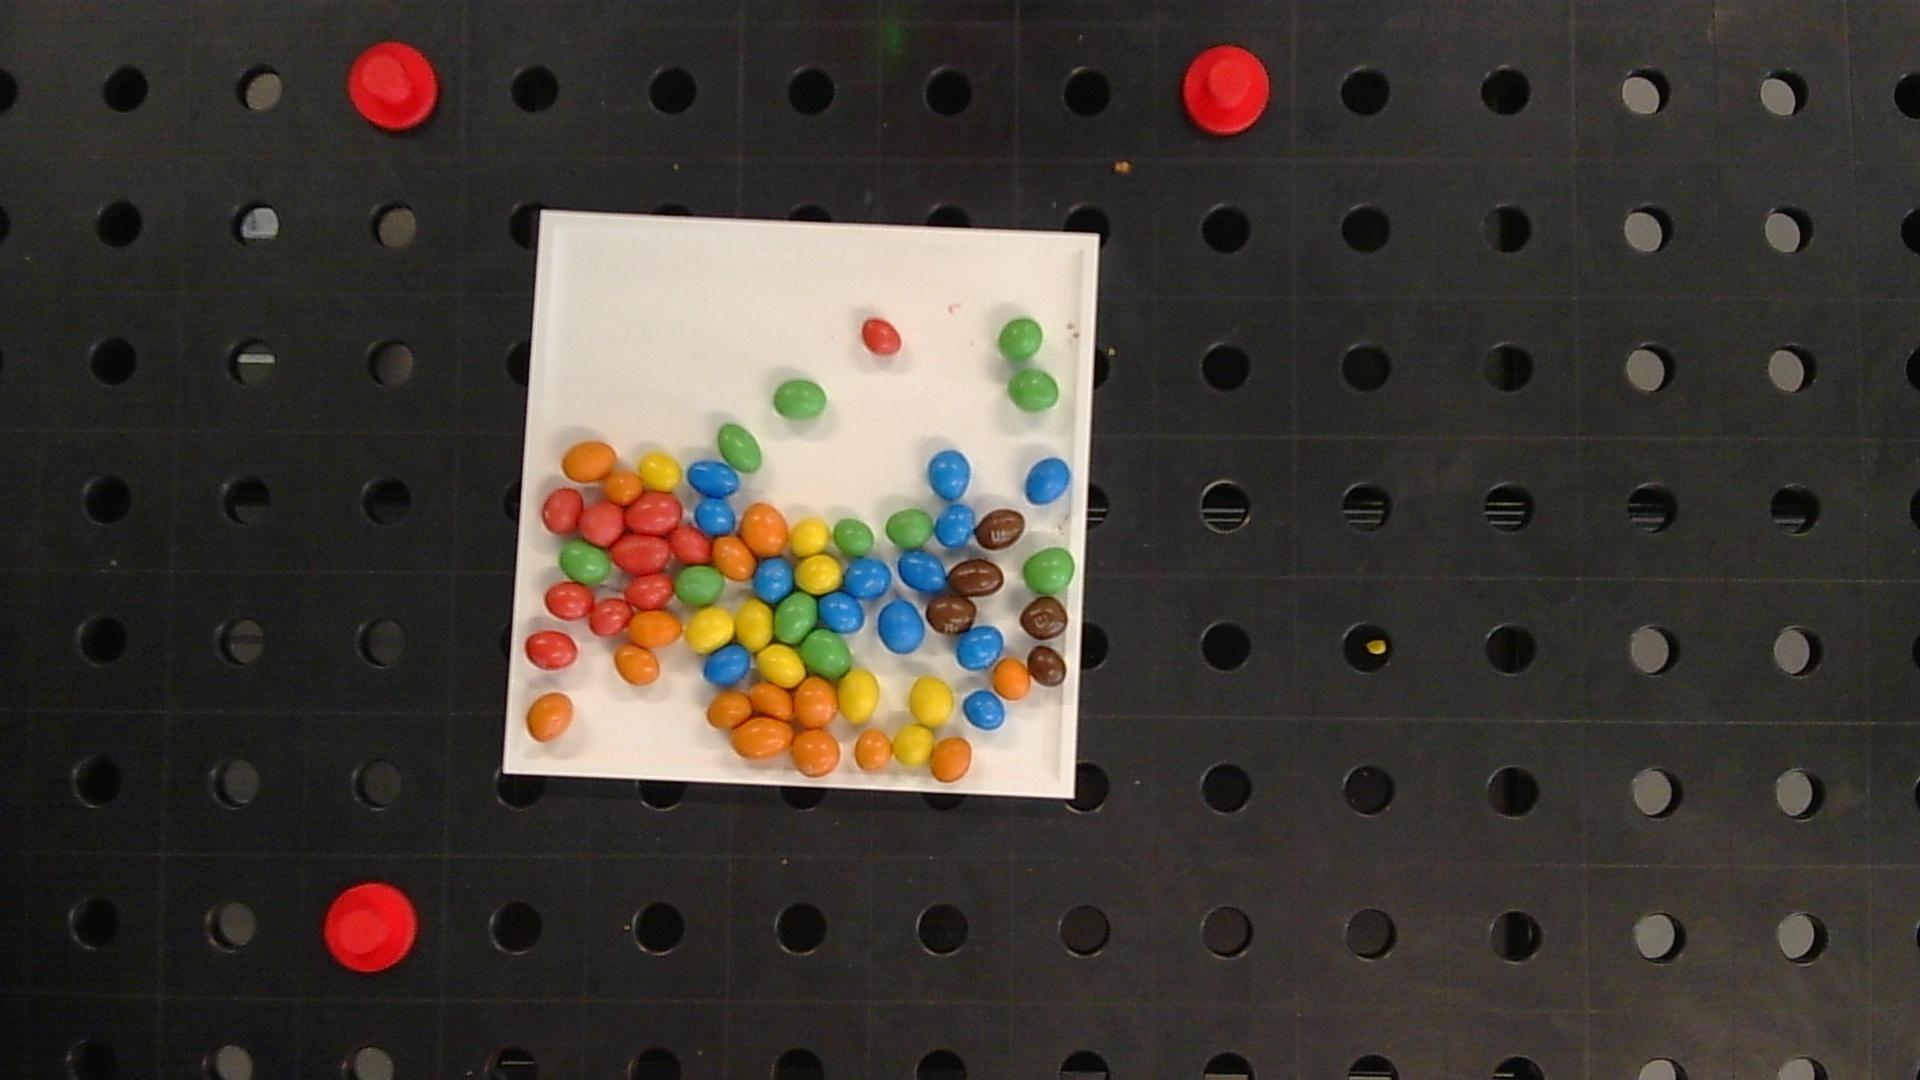blue: (878, 600, 924, 653), (928, 450, 971, 500), (956, 626, 1004, 670), (898, 551, 947, 592), (1026, 458, 1069, 502), (844, 558, 890, 599), (704, 645, 750, 686), (688, 460, 740, 496), (819, 592, 865, 632), (935, 504, 976, 547), (753, 558, 793, 600), (963, 691, 1006, 729), (695, 496, 736, 534)
brown: (947, 559, 1005, 596), (1019, 597, 1068, 640), (977, 509, 1023, 550), (927, 596, 976, 634), (1027, 645, 1067, 686)
green: (1023, 549, 1075, 593), (802, 630, 851, 676), (560, 541, 611, 584), (1007, 371, 1060, 411), (773, 380, 827, 419), (774, 592, 816, 642), (719, 423, 762, 471), (998, 319, 1043, 363), (886, 508, 934, 549), (675, 566, 724, 605), (833, 517, 876, 556)
orange: (732, 717, 794, 758), (741, 504, 787, 555), (791, 729, 841, 775), (527, 692, 574, 741), (562, 440, 617, 480), (794, 678, 837, 727), (628, 611, 682, 647), (713, 535, 756, 580), (931, 737, 972, 782), (615, 646, 661, 684), (707, 692, 752, 728), (855, 729, 893, 770), (750, 682, 793, 719), (993, 657, 1030, 699), (604, 471, 642, 504)
red: (611, 534, 671, 572), (628, 495, 680, 533), (526, 630, 578, 669), (580, 502, 624, 545), (545, 583, 593, 618), (542, 488, 582, 531), (626, 574, 674, 608), (589, 596, 632, 634), (861, 319, 902, 355), (670, 526, 711, 562)
yellow: (684, 607, 735, 653), (839, 670, 880, 723), (910, 676, 953, 725), (757, 645, 804, 686), (736, 600, 773, 647), (894, 724, 935, 766), (796, 555, 841, 592), (640, 452, 682, 489), (790, 517, 829, 555)
